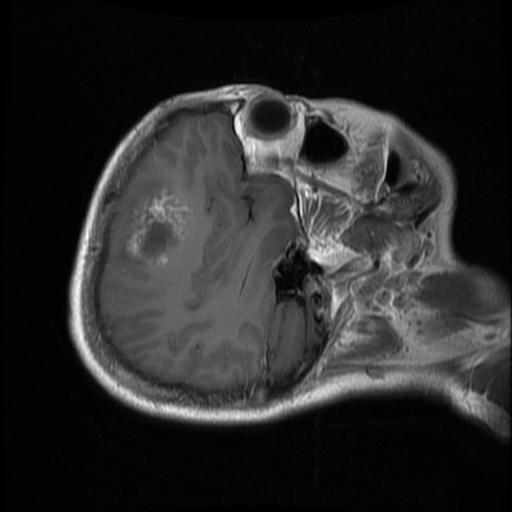glioma: (124, 188, 191, 271)
